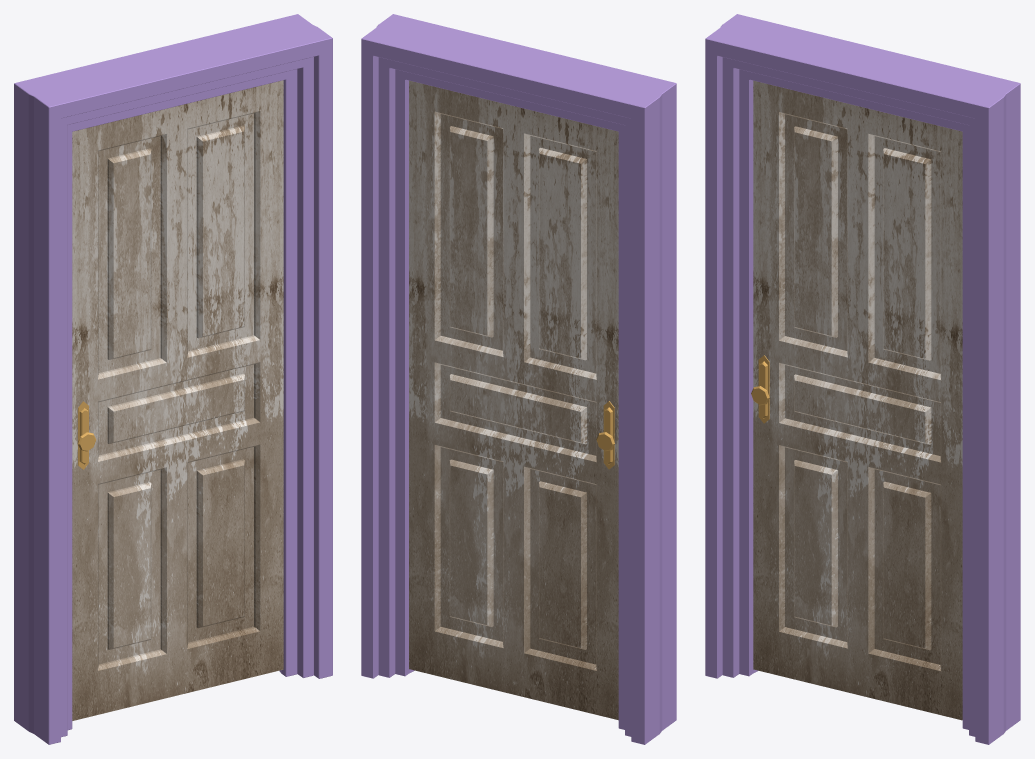
Rendered from Puerta-NoInt.fbx.
The picture shows the model from 3 angles, left to right: view 1: azimuth 30°, elevation 25°; view 2: azimuth 150°, elevation 25°; view 3: azimuth 330°, elevation 25°; orthographic projection.
Parts seen in each view (by area): view 1: Door, Door-Base.001, Handle; view 2: Door, Door-Base.001, Handle; view 3: Door, Door-Base.001, Handle.
Part boxes in pixels (x1=…): Door: x1=72, y1=80, x2=283, y2=720; Door-Base.001: x1=14, y1=14, x2=332, y2=744; Handle: x1=77, y1=401, x2=96, y2=469; Door: x1=409, y1=80, x2=618, y2=720; Door-Base.001: x1=361, y1=14, x2=676, y2=744; Handle: x1=596, y1=401, x2=614, y2=469; Door: x1=753, y1=80, x2=962, y2=720; Door-Base.001: x1=705, y1=14, x2=1020, y2=744; Handle: x1=751, y1=355, x2=769, y2=423.
Size of the model in its own units: 676 by 1443 by 137.
